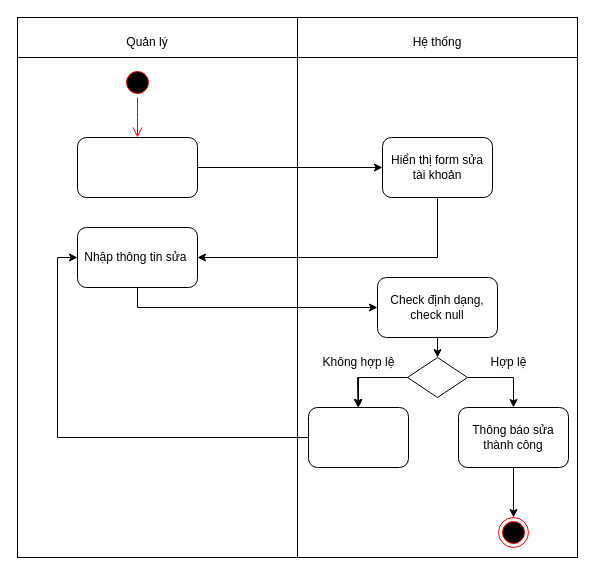
The diagram is 595 pixels wide and 575 high, and some of its shapes have lost their labels. The shapes that lost their labels are listed below. From the top down, each one's box as (x1, y1, x2, y2) in pixels, then its label:
(76, 136, 198, 198): Ấn chọn sửa tài khoản
(308, 406, 408, 468): Thông báo dữ liệu không hợp lệ
